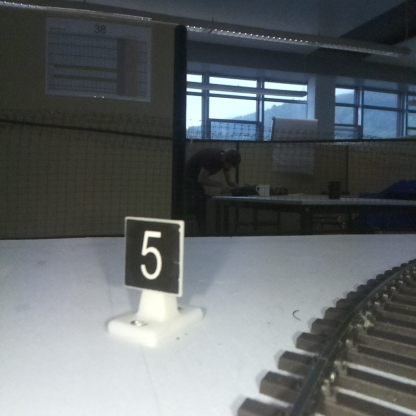black-stop-5: (125, 218, 179, 336)
